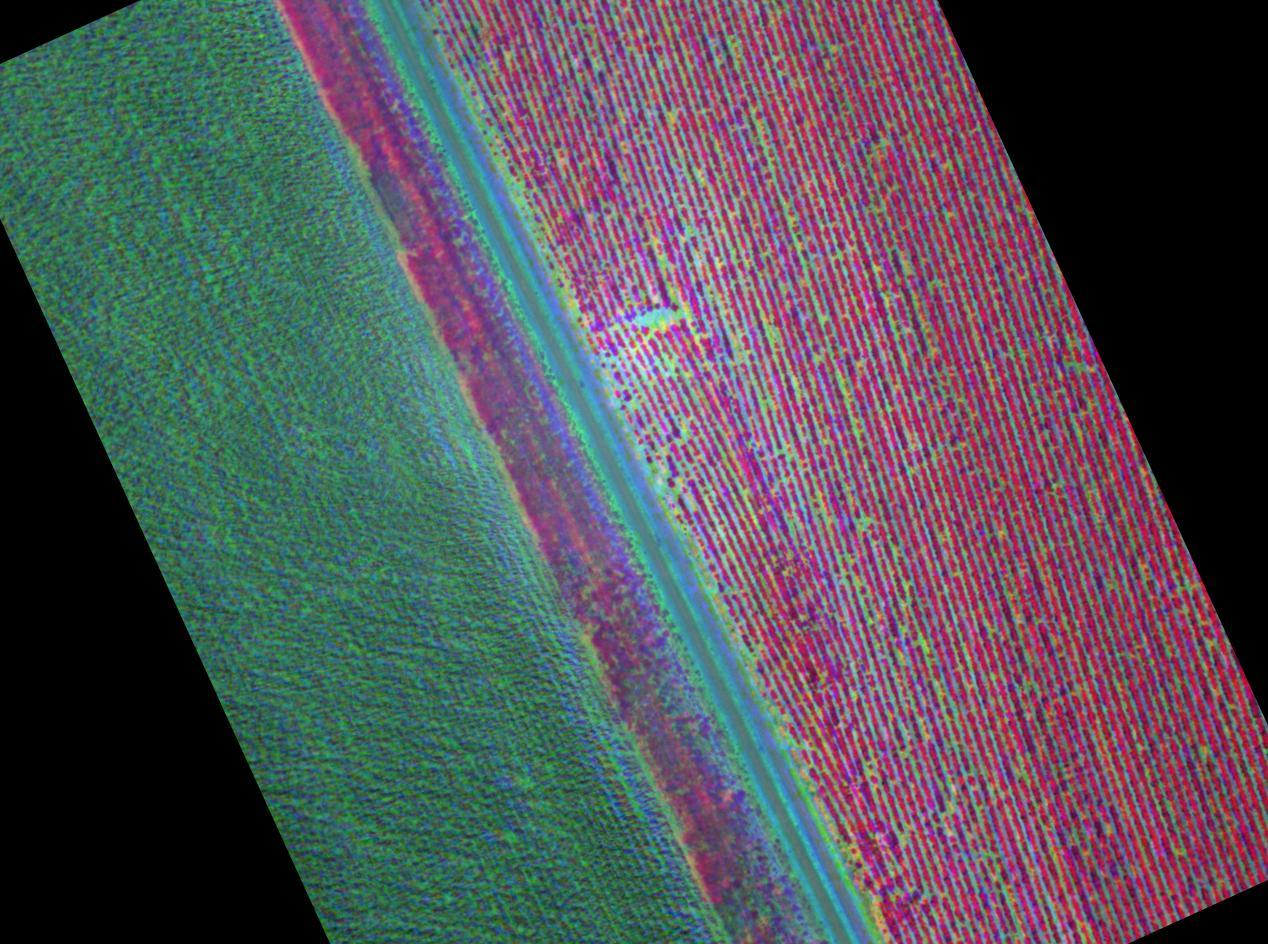dc: (640, 319, 646, 325), (481, 101, 486, 106), (505, 53, 509, 59), (820, 317, 824, 322), (765, 328, 769, 333), (829, 48, 833, 53), (558, 217, 562, 221), (760, 254, 764, 258), (904, 269, 908, 273), (659, 317, 663, 321), (1060, 480, 1064, 484), (617, 110, 620, 115), (881, 142, 884, 146), (647, 203, 650, 206), (662, 258, 665, 261), (616, 325, 619, 328), (671, 314, 673, 317)
